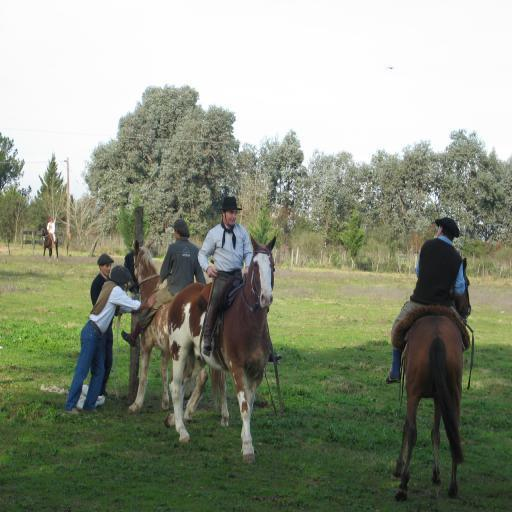horse: (168, 234, 278, 466), (392, 258, 474, 504), (127, 240, 229, 426), (40, 227, 58, 261)
